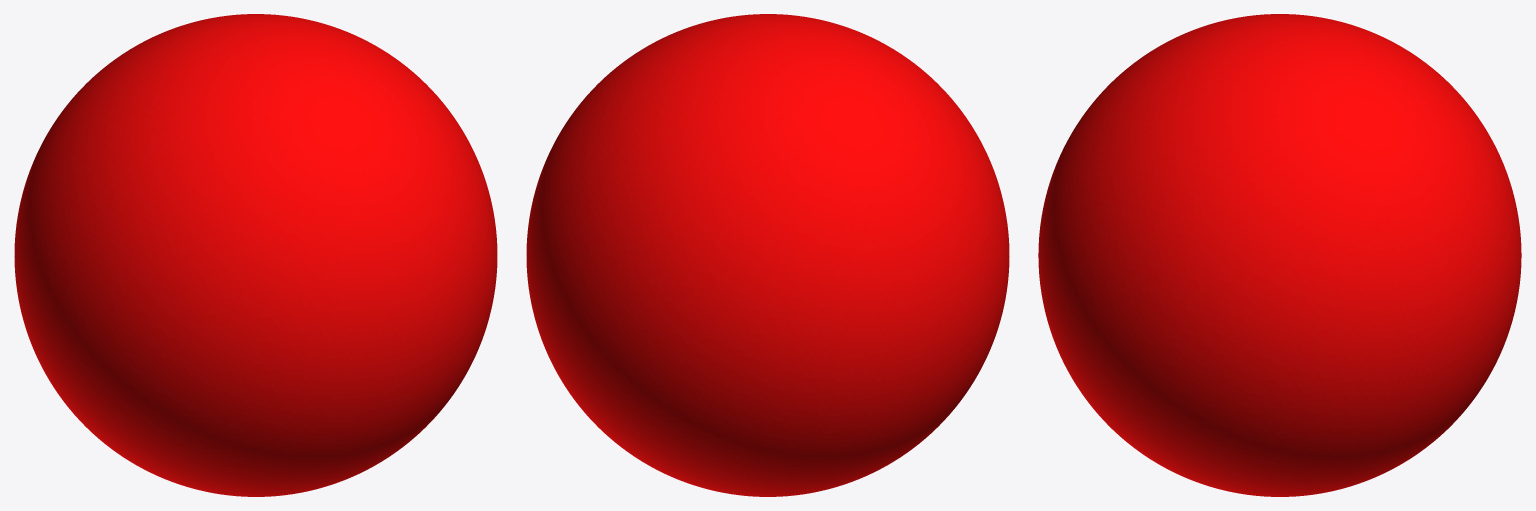
3 views of the same model, side by side, from view 1: azimuth 30°, elevation 25°; view 2: azimuth 150°, elevation 25°; view 3: azimuth 270°, elevation 25° (orthographic).
Visible parts, largest first — view 1: Sphere; view 2: Sphere; view 3: Sphere.
Part boxes in pixels (box(x1,y1,x2,y2)): Sphere: box(14, 14, 497, 496); Sphere: box(526, 14, 1009, 496); Sphere: box(1038, 14, 1521, 496).
Bounding box in the file's own units: 0.5379 × 0.5379 × 0.5379.
